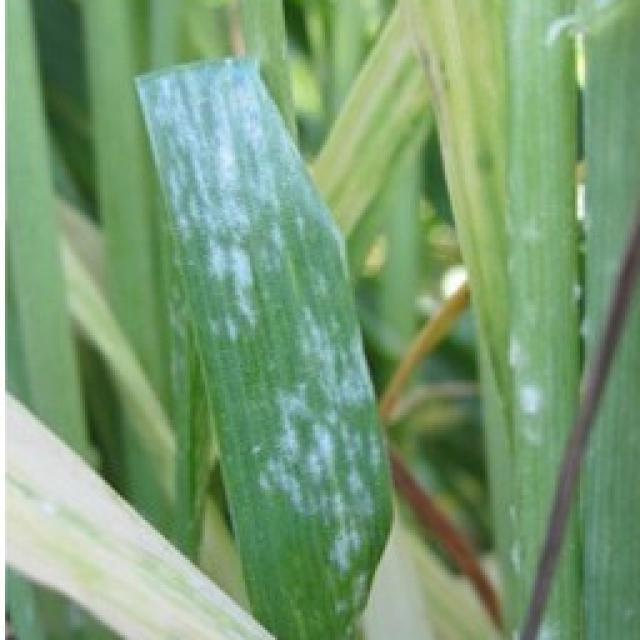wheat-powdery-mildew: (132, 56, 395, 640)
